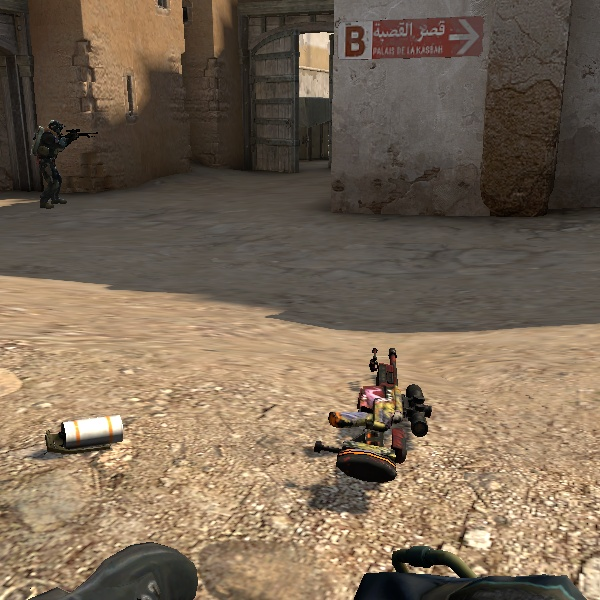ct_body: (29, 118, 77, 207)
ct_head: (45, 118, 67, 139)
